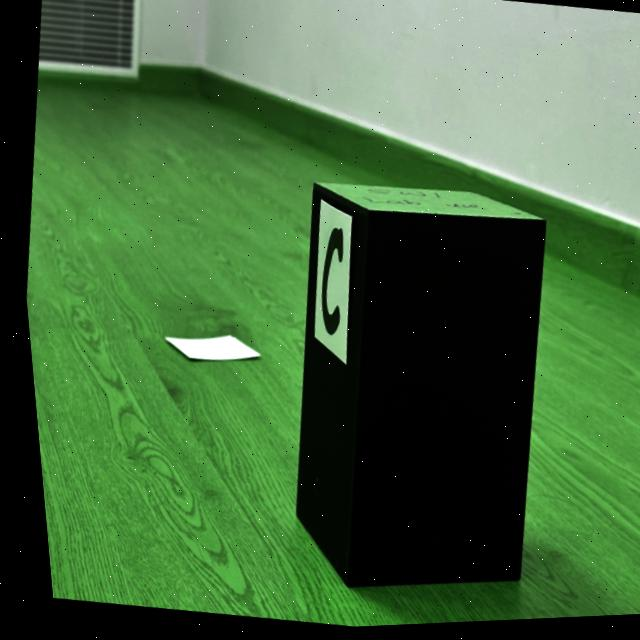C: (315, 231, 339, 337)
